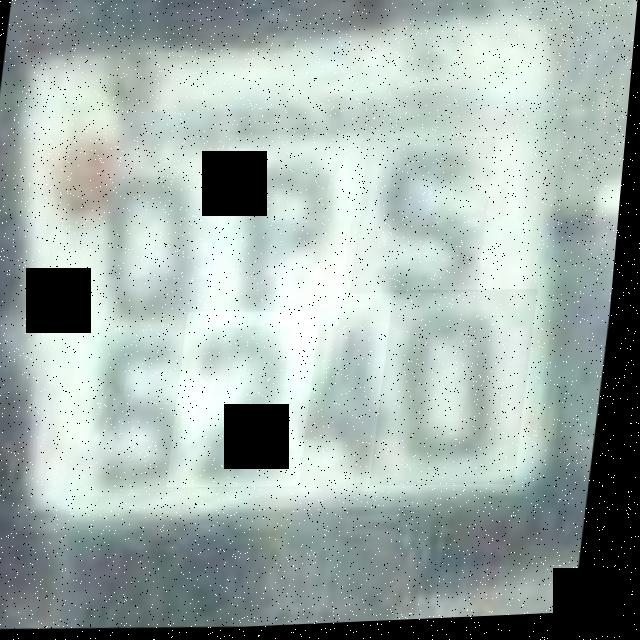0: (378, 289, 544, 494)
2: (175, 309, 327, 494)
4: (274, 300, 422, 497)
5: (67, 317, 213, 501)
P: (212, 132, 364, 334)
S: (355, 136, 499, 301)
